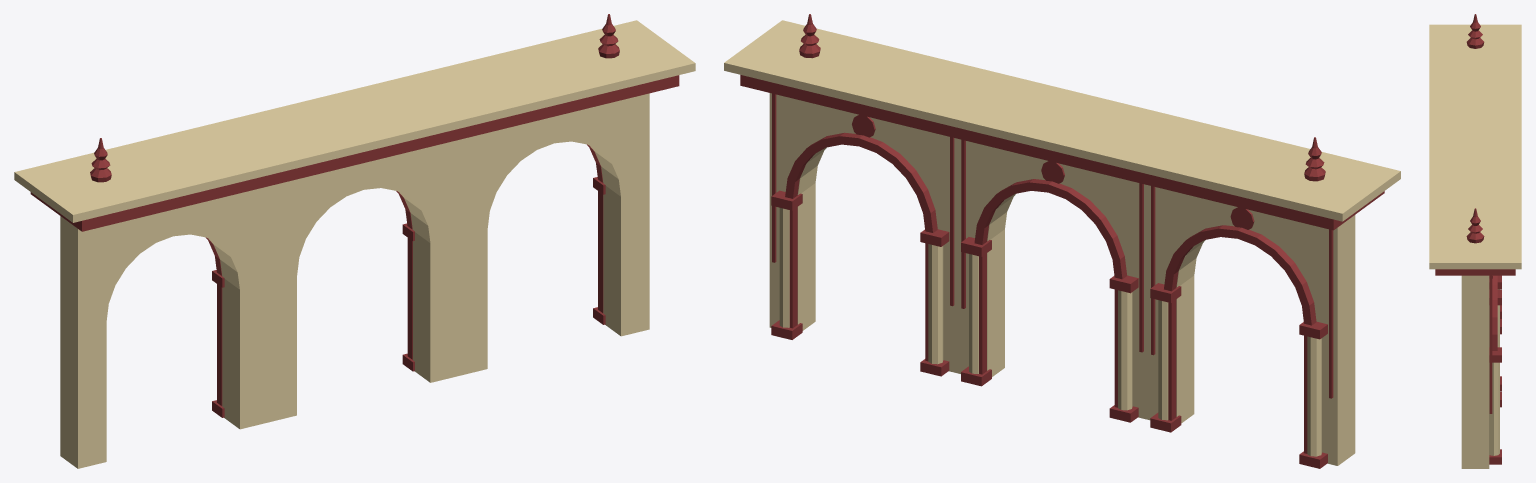
The model's file is KOL_T1_DAKSHINESHWAR__12_River_Gateway.fbx.
The picture shows the model from 3 angles, left to right: view 1: azimuth 30°, elevation 25°; view 2: azimuth 150°, elevation 25°; view 3: azimuth 270°, elevation 25°; orthographic projection. The views are drawn at different scales.
Visible parts, largest first — view 1: KOL_T1_DAKSHINESHWAR__12_River_Gateway__KOL_T1_TempleCream, KOL_T1_DAKSHINESHWAR__12_River_Gateway__KOL_T1_TempleRed; view 2: KOL_T1_DAKSHINESHWAR__12_River_Gateway__KOL_T1_TempleCream, KOL_T1_DAKSHINESHWAR__12_River_Gateway__KOL_T1_TempleRed; view 3: KOL_T1_DAKSHINESHWAR__12_River_Gateway__KOL_T1_TempleCream, KOL_T1_DAKSHINESHWAR__12_River_Gateway__KOL_T1_TempleRed.
Boxes of the visible parts, x1,y1,x2,y2 form: KOL_T1_DAKSHINESHWAR__12_River_Gateway__KOL_T1_TempleCream: [14, 20, 695, 468]; KOL_T1_DAKSHINESHWAR__12_River_Gateway__KOL_T1_TempleRed: [30, 14, 679, 417]; KOL_T1_DAKSHINESHWAR__12_River_Gateway__KOL_T1_TempleCream: [724, 20, 1400, 465]; KOL_T1_DAKSHINESHWAR__12_River_Gateway__KOL_T1_TempleRed: [740, 14, 1384, 468]; KOL_T1_DAKSHINESHWAR__12_River_Gateway__KOL_T1_TempleCream: [1429, 24, 1521, 468]; KOL_T1_DAKSHINESHWAR__12_River_Gateway__KOL_T1_TempleRed: [1435, 14, 1515, 464].
Size of the model in its own units: 49 by 23.8 by 8.
